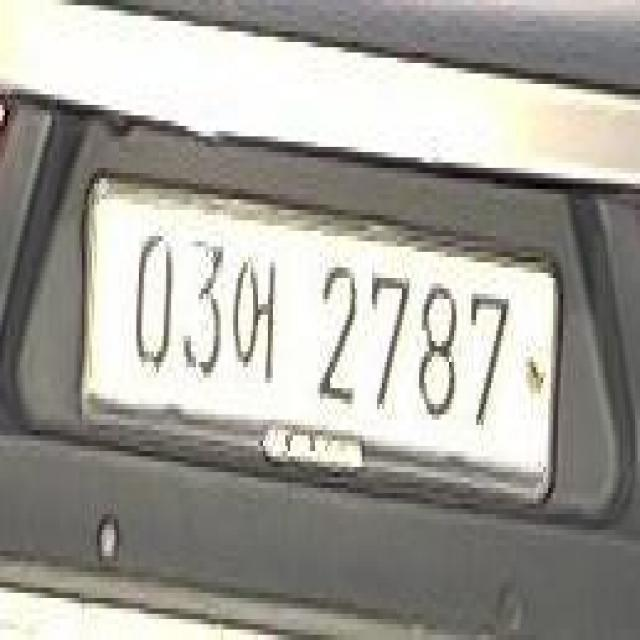illegal_plate: (83, 169, 562, 522)
